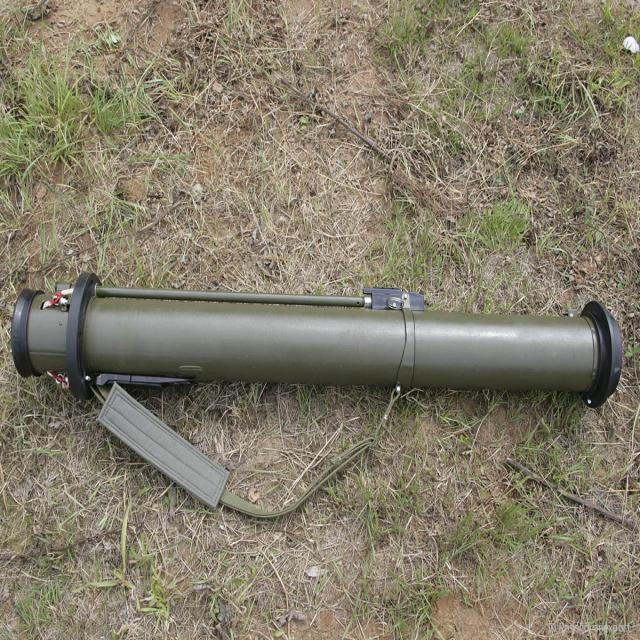bazooka: (13, 249, 640, 535)
